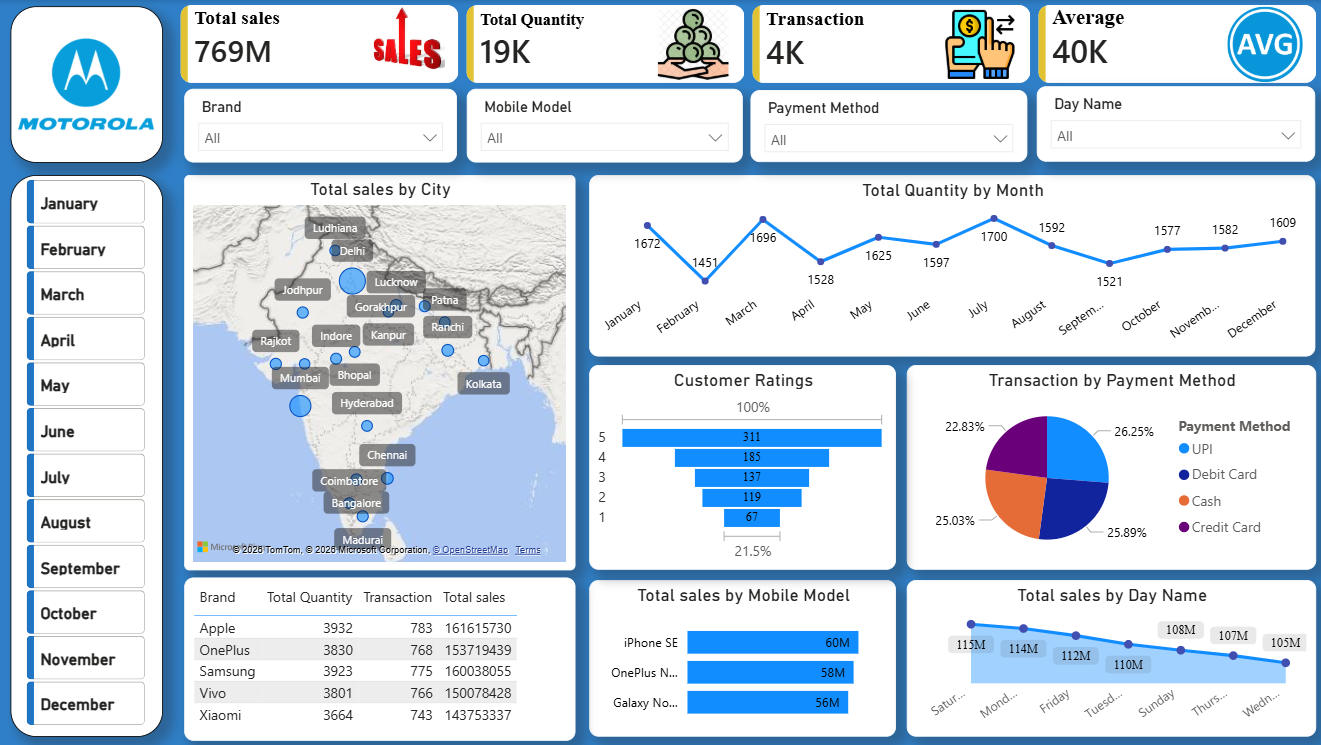

This screenshot's page, from the dashboard's own definition file:
{"tool":"powerbi","page":{"name":"Page 1","canvas":[1280,720],"ordinal":0},"visuals":[{"type":"shape","box":[12.3,5.5,146.8,150.9],"z":0},{"type":"image","box":[12.3,5.5,145.5,150.9],"z":1000},{"type":"shape","box":[12.3,168.8,146.8,542],"z":2000},{"type":"advancedSlicerVisual","fields":{"Values":["Sales_Data.Date.Variation.Date Hierarchy.Month"]},"box":[23.3,168.8,124.9,542],"z":3000},{"type":"cardVisual","fields":{"Data":["Sales_Data.Total sales","Sales_Data.Total Quantity","Sales_Data.Transaction","Sales_Data.Average"]},"box":[171.5,0,1108.8,85.1],"z":4000},{"type":"map","fields":{"Category":["Sales_Data.City"],"Size":["Sales_Data.Total sales"]},"box":[179.8,168.8,377.4,381.5],"z":5000},{"type":"lineChart","fields":{"Y":["Sales_Data.Total Quantity"],"Category":["Sales_Data.Date.Variation.Date Hierarchy.Month","Sales_Data.Date.Variation.Date Hierarchy.Day"]},"box":[570.6,168.9,700.9,174.9],"z":6000},{"type":"clusteredBarChart","fields":{"Category":["Sales_Data.Mobile Model"],"Y":["Sales_Data.Total sales"]},"box":[570.8,559.9,296.4,150.9],"z":7000},{"type":"pieChart","fields":{"Y":["Sales_Data.Transaction"],"Category":["Sales_Data.Payment Method"]},"box":[876.8,352.7,395.2,197.6],"z":8000},{"type":"funnel","title":"Customer Ratings","fields":{"Category":["Sales_Data.Customer Ratings"],"Y":["CountNonNull(Sales_Data.Customer Ratings)"]},"box":[570.8,352.7,296.4,197.6],"z":9000},{"type":"areaChart","fields":{"Y":["Sales_Data.Total sales"],"Category":["Sales_Data.Day Name"]},"box":[876.8,559.9,395.2,150.9],"z":10000},{"type":"tableEx","fields":{"Values":["Sales_Data.Brand","Sales_Data.Total Quantity","Sales_Data.Transaction","Sales_Data.Total sales"]},"box":[179.8,557.1,377.4,157.8],"z":11000},{"type":"slicer","fields":{"Values":["Sales_Data.Brand"]},"box":[179.8,85.1,263.5,71.4],"z":11001},{"type":"slicer","fields":{"Values":["Sales_Data.Mobile Model"]},"box":[452.8,85.1,266.2,71.4],"z":11002},{"type":"slicer","fields":{"Values":["Sales_Data.Payment Method"]},"box":[725.9,86.4,267.6,70],"z":11003},{"type":"slicer","fields":{"Values":["Sales_Data.Day Name"]},"box":[1003.1,83.7,269,72.7],"z":11004}]}

Visuals, with their boxes in screenshot pixels (x1, y1, x2, y2), scaled from the page's 1280x720 canvas onto the 1321x745 screenshot:
shape: detection(13, 6, 164, 162)
image: detection(13, 6, 163, 162)
shape: detection(13, 175, 164, 735)
advancedSlicerVisual - Sales_Data.Date.Variation.Date Hierarchy.Month: detection(24, 175, 153, 735)
cardVisual - Sales_Data.Total sales x Sales_Data.Total Quantity: detection(177, 0, 1320, 88)
map - Sales_Data.City x Sales_Data.Total sales: detection(186, 175, 575, 569)
lineChart - Sales_Data.Total Quantity x Sales_Data.Date.Variation.Date Hierarchy.Month: detection(589, 175, 1312, 356)
clusteredBarChart - Sales_Data.Mobile Model x Sales_Data.Total sales: detection(589, 579, 895, 735)
pieChart - Sales_Data.Transaction x Sales_Data.Payment Method: detection(905, 365, 1313, 569)
"Customer Ratings" funnel: detection(589, 365, 895, 569)
areaChart - Sales_Data.Total sales x Sales_Data.Day Name: detection(905, 579, 1313, 735)
tableEx - Sales_Data.Brand x Sales_Data.Total Quantity: detection(186, 576, 575, 740)
slicer - Sales_Data.Brand: detection(186, 88, 457, 162)
slicer - Sales_Data.Mobile Model: detection(467, 88, 742, 162)
slicer - Sales_Data.Payment Method: detection(749, 89, 1025, 162)
slicer - Sales_Data.Day Name: detection(1035, 87, 1313, 162)
